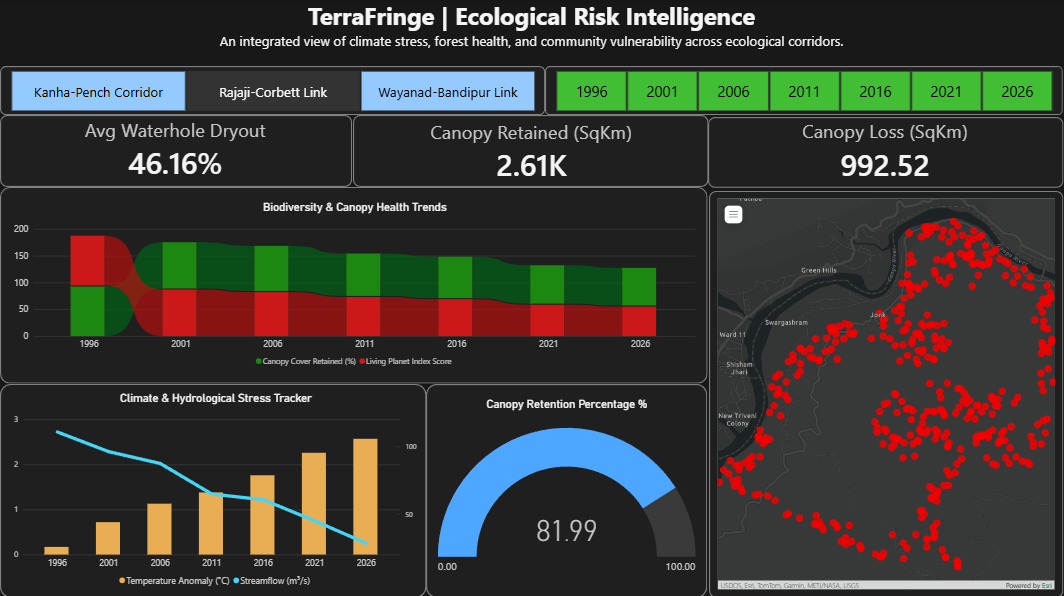

Layout of this report page (visuals, bound fields, positions):
{"tool":"powerbi","page":{"name":"Page 1","canvas":[1920,1080],"ordinal":0},"visuals":[{"type":"shape","box":[0,119.7,984.8,88.8],"z":0},{"type":"slicer","fields":{"Values":["dim_eco_zones.zone_name"]},"box":[0,125.9,984.8,76.4],"z":1000},{"type":"shape","box":[0,208.5,635.9,130.1],"z":2000},{"type":"shape","box":[637.9,208.5,642.1,130.1],"z":3000},{"type":"shape","box":[1277.9,210.6,642.1,128],"z":4000},{"type":"cardVisual","fields":{"Data":["_Key_Measures.Canopy Loss SqKm"]},"box":[1430.7,208.5,336.5,130.1],"z":5000},{"type":"cardVisual","fields":{"Data":["_Key_Measures.Current Canopy Retained SqKm"]},"box":[745.3,202.3,427.4,142.5],"z":6000},{"type":"cardVisual","fields":{"Data":["_Key_Measures.Avg Waterhole Dryout Pct"]},"box":[130.1,198.2,373.7,142.5],"z":7000},{"type":"shape","box":[984.8,119.7,935.2,88.8],"z":8000},{"type":"slicer","fields":{"Values":["Dim_Epoch.EpochYear"]},"box":[984.8,125.9,935.2,76.4],"z":9000},{"type":"shape","box":[1280,344.8,640,735],"z":10000},{"type":"esriVisual","fields":{"Color":["localized_deforestation_events.zone_name"],"Latitude":["localized_deforestation_events.Latitude"],"Longitude":["localized_deforestation_events.Longitude"]},"box":[1280,344.8,640,735],"z":11000},{"type":"textbox","box":[0,0,1920,121.8],"z":12000},{"type":"shape","box":[0,338.6,1277.9,355.1],"z":13000},{"type":"ribbonChart","title":"Biodiversity & Canopy Health Trends","fields":{"Category":["Dim_Epoch.EpochYear"],"Y":["Avg(fact_flora_fauna_biodiversity.canopy_cover_retained_pct)","Sum(fact_flora_fauna_biodiversity.living_planet_index_score)"]},"box":[8.3,348.9,1263.5,334.5],"z":14000},{"type":"shape","box":[770.1,693.7,507.9,386.1],"z":15000},{"type":"gauge","title":"Canopy Retention Percentage %","fields":{"Y":["Avg(fact_flora_fauna_biodiversity.canopy_cover_retained_pct)"]},"box":[774.2,704,497.5,367.5],"z":16000},{"type":"shape","box":[0,693.7,770.1,386.1],"z":17000},{"type":"lineClusteredColumnComboChart","title":"Climate & Hydrological Stress Tracker","fields":{"Category":["Dim_Epoch.EpochYear"],"Y":["Avg(fact_watershed_aquifer_hydrology.land_surface_temp_anomaly_celsius)"],"Y2":["Avg(fact_watershed_aquifer_hydrology.mean_perennial_streamflow_m3s)"]},"box":[8.3,693.7,761.8,386.1],"z":18000}]}

Visuals, with their boxes in screenshot pixels (x1, y1, x2, y2), scaled from the page's 1920x1080 canvas onto the 1064x596 screenshot:
shape: select_region(0, 66, 546, 115)
slicer - dim_eco_zones.zone_name: select_region(0, 69, 546, 112)
shape: select_region(0, 115, 352, 187)
shape: select_region(354, 115, 709, 187)
shape: select_region(708, 116, 1063, 187)
cardVisual - _Key_Measures.Canopy Loss SqKm: select_region(793, 115, 979, 187)
cardVisual - _Key_Measures.Current Canopy Retained SqKm: select_region(413, 112, 650, 190)
cardVisual - _Key_Measures.Avg Waterhole Dryout Pct: select_region(72, 109, 279, 188)
shape: select_region(546, 66, 1063, 115)
slicer - Dim_Epoch.EpochYear: select_region(546, 69, 1063, 112)
shape: select_region(709, 190, 1063, 595)
esriVisual - localized_deforestation_events.zone_name x localized_deforestation_events.Latitude: select_region(709, 190, 1063, 595)
textbox: select_region(0, 0, 1063, 67)
shape: select_region(0, 187, 708, 383)
"Biodiversity & Canopy Health Trends" ribbonChart: select_region(5, 193, 705, 377)
shape: select_region(427, 383, 708, 595)
"Canopy Retention Percentage %" gauge: select_region(429, 389, 705, 591)
shape: select_region(0, 383, 427, 595)
"Climate & Hydrological Stress Tracker" lineClusteredColumnComboChart: select_region(5, 383, 427, 595)
